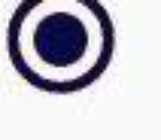RadioButton: (1, 1, 160, 139)
